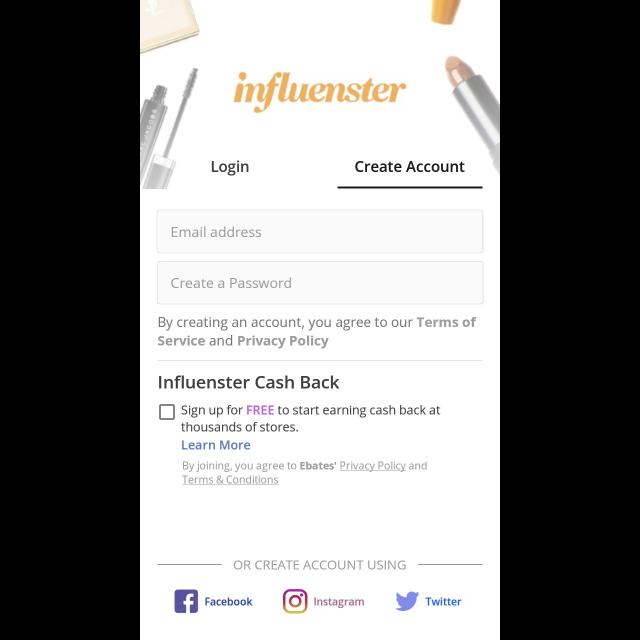checkbox: (160, 404, 174, 420)
icon: (175, 589, 199, 613), (396, 591, 420, 611)
image: (234, 72, 406, 114), (284, 588, 308, 614)
input: (157, 210, 483, 254), (157, 262, 483, 304)
text: (158, 317, 476, 349), (181, 404, 441, 432), (182, 461, 426, 485), (160, 375, 340, 389), (234, 560, 406, 570), (172, 278, 292, 288), (356, 162, 464, 172), (172, 227, 262, 237), (182, 440, 250, 450), (212, 160, 248, 176), (314, 598, 364, 608), (205, 598, 253, 606), (426, 596, 462, 606)
